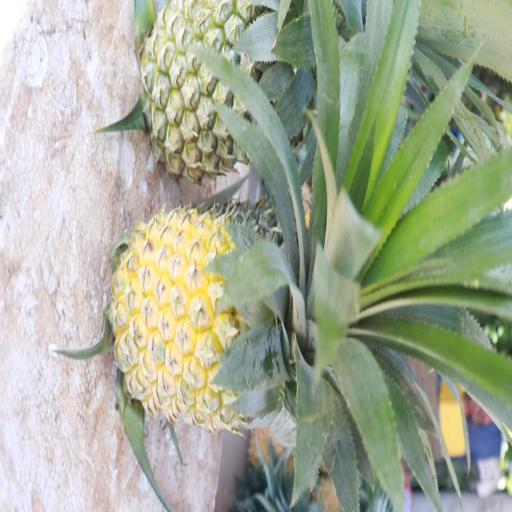------------------------------: (140, 0, 354, 171)
Pineapple - v8 v1: (113, 204, 363, 422)
